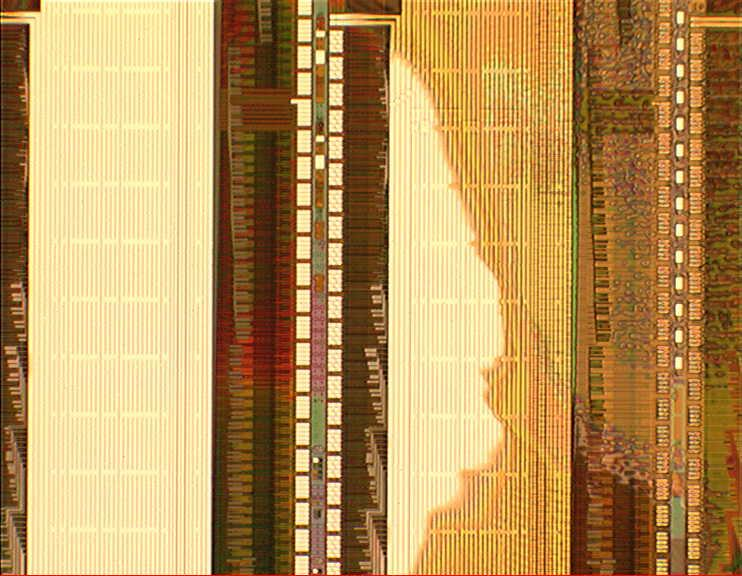COATING BAD: (330, 1, 742, 576)
